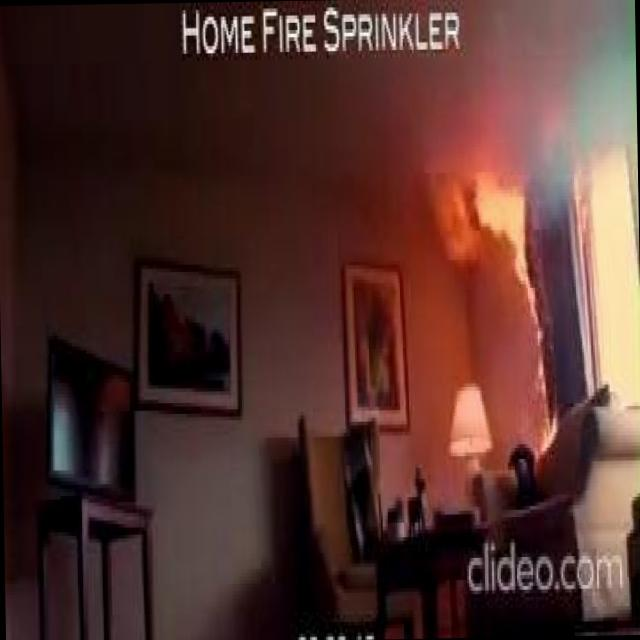fire: (428, 112, 570, 408)
